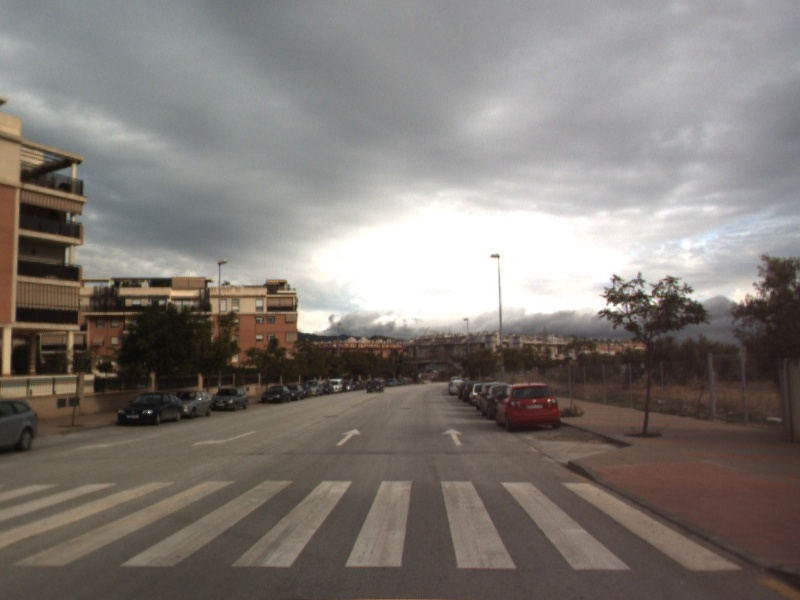STRAIGHT: (334, 426, 363, 447), (440, 426, 465, 447)
